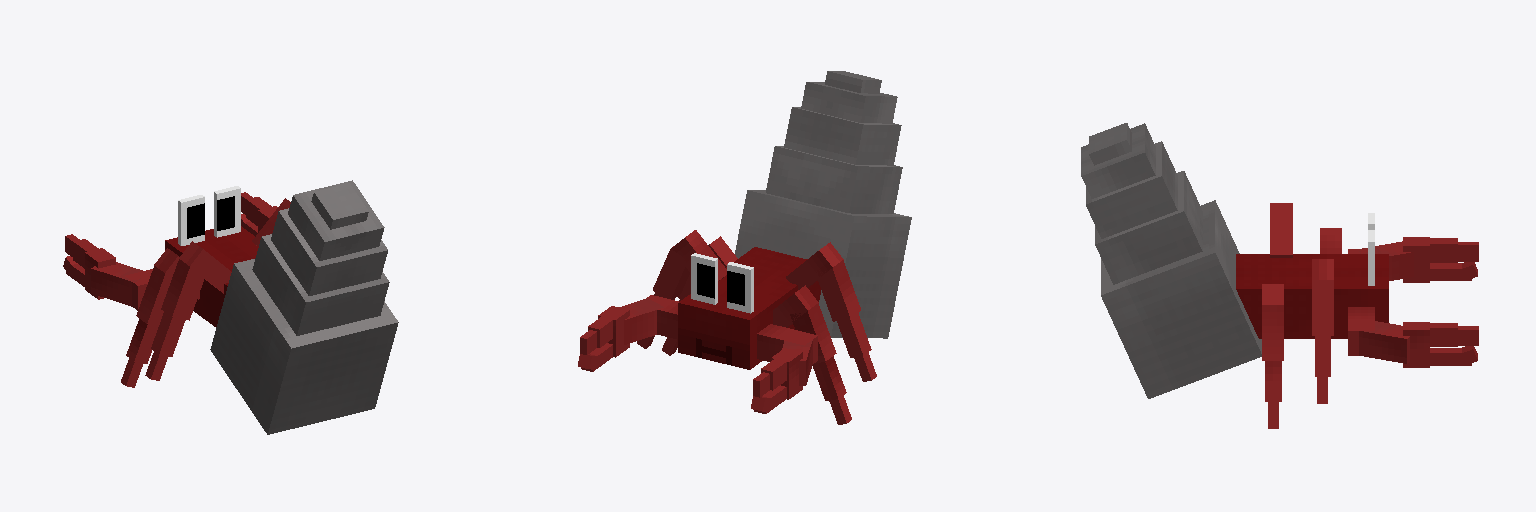
3 renders of one model, left to right at view 1: azimuth 30°, elevation 25°; view 2: azimuth 150°, elevation 25°; view 3: azimuth 270°, elevation 25°, orthographic.
Parts seen in each view (by area): view 1: cube; view 2: cube; view 3: cube.
Boxes of the visible parts, x1=… form: cube: x1=63, y1=180, x2=398, y2=434; cube: x1=578, y1=71, x2=911, y2=424; cube: x1=1081, y1=123, x2=1478, y2=428.
Bounding box in the file's own units: 0.5614 × 0.6235 × 0.9006.
1 materials, 1 textured.